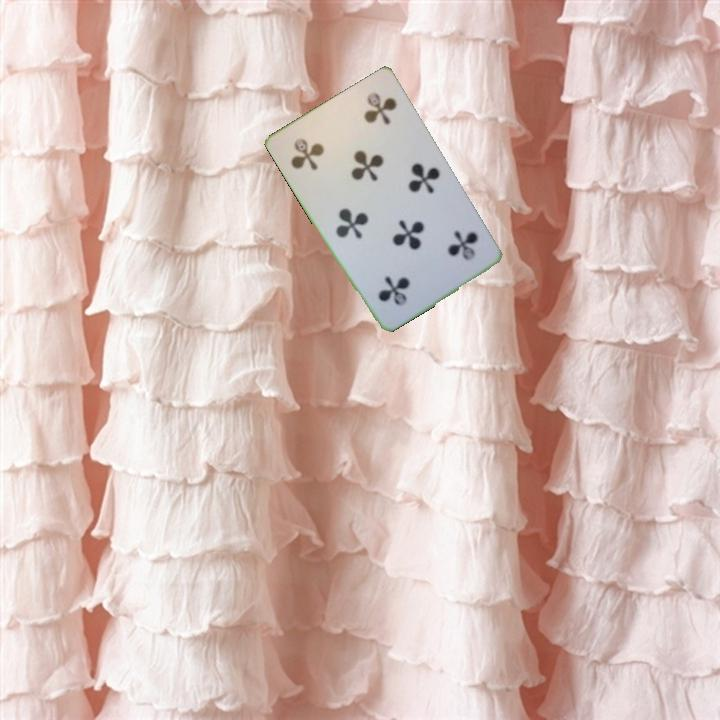c_8.png: (408, 209, 493, 292), (276, 110, 361, 192)
